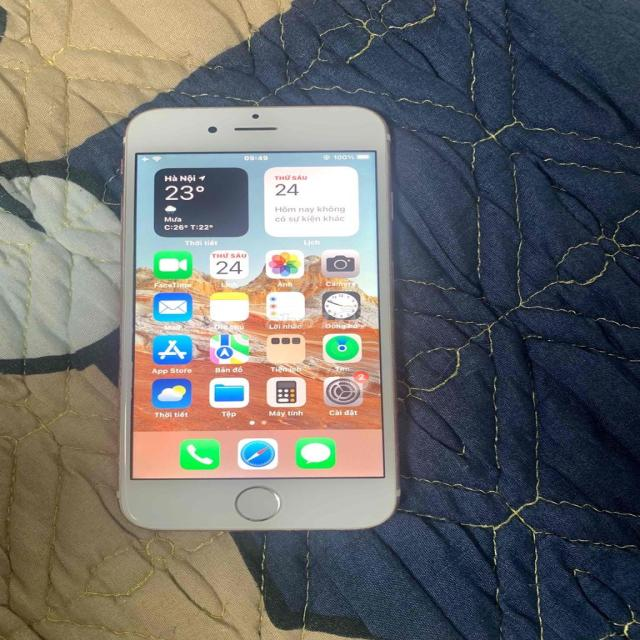gen_6: (119, 106, 398, 530)
